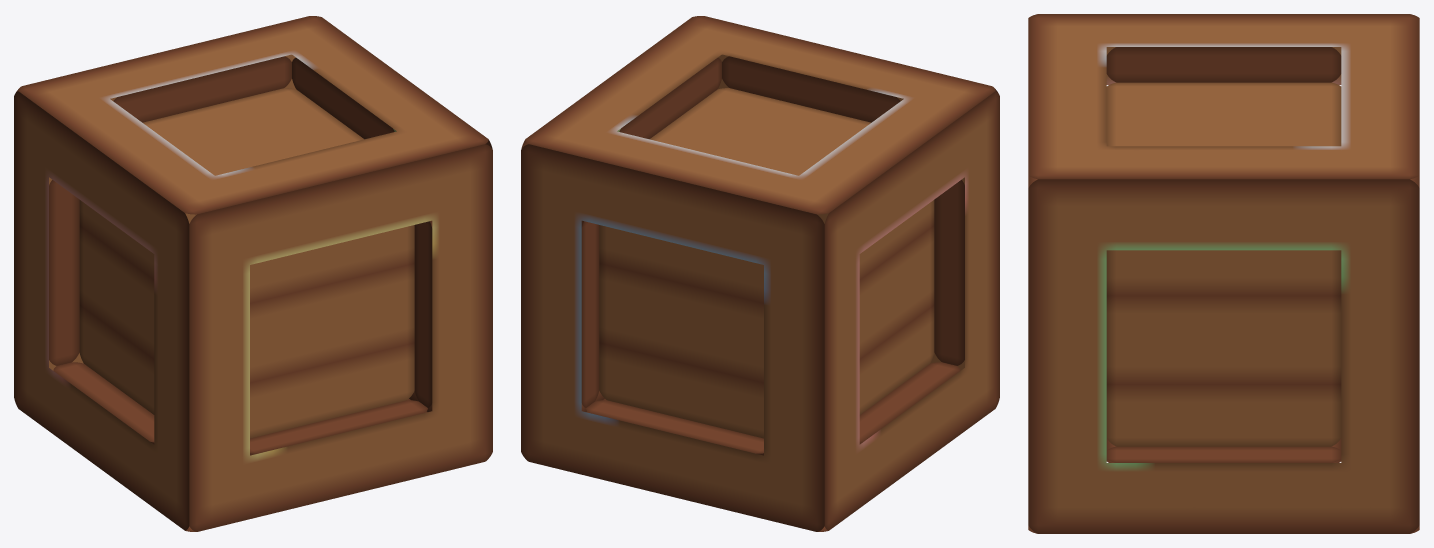
The model's file is Box Bullet.fbx.
The picture shows the model from 3 angles, left to right: view 1: azimuth 30°, elevation 25°; view 2: azimuth 150°, elevation 25°; view 3: azimuth 270°, elevation 25°; orthographic projection. The views are drawn at different scales.
Visible parts, largest first — view 1: cuboid; view 2: cuboid; view 3: cuboid.
Boxes of the visible parts, bbox=[...] form: cuboid: bbox=[14, 16, 492, 531]; cuboid: bbox=[521, 16, 999, 531]; cuboid: bbox=[1028, 14, 1419, 533].
Size of the model in its own units: 62.5 by 62.5 by 62.5.
1 material, 1 textured.
